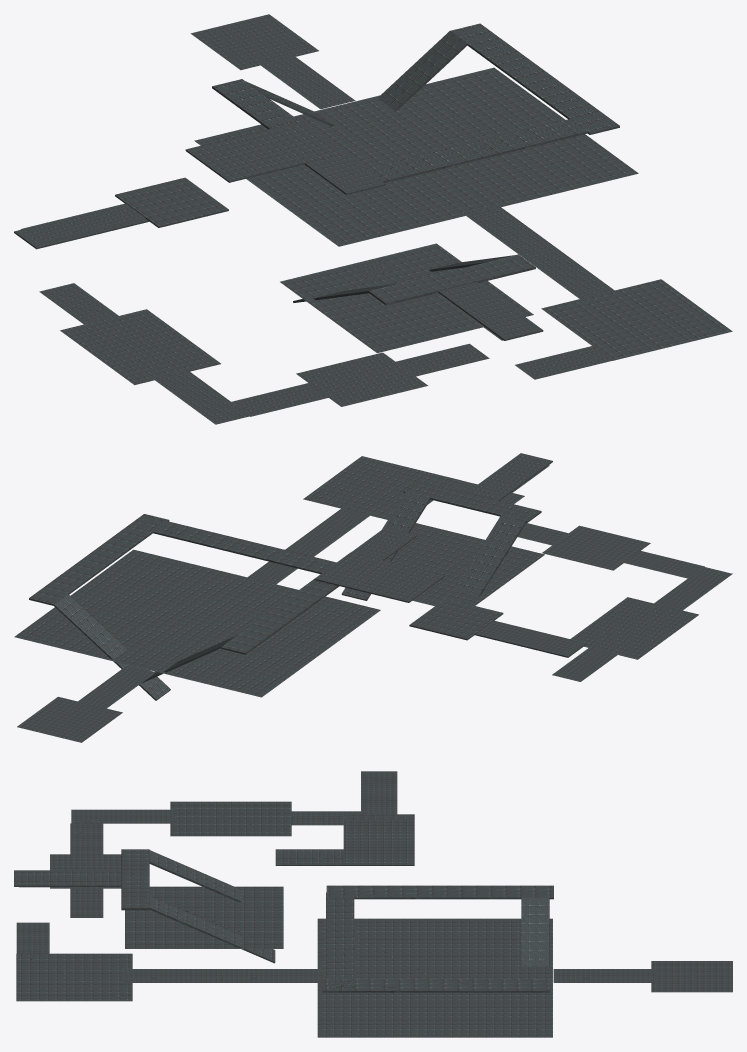
The model's file is enviornmentFinalFloors.obj.
3 views of the same model, one above another, from view 1: azimuth 30°, elevation 25°; view 2: azimuth 150°, elevation 25°; view 3: azimuth 270°, elevation 25° (orthographic). The views are drawn at different scales.
Visible parts, largest first — view 1: Plane, Plane.027, Plane.014, Plane.006, Cube.051, Cube.114, Cube.116, Plane.002, Plane.022, Cube.046, Cube.073, Cube.079 (+14 smaller); view 2: Plane, Plane.027, Plane.014, Plane.006, Cube.051, Cube.116, Cube.114, Plane.002, Plane.022, Cube.112, Cube.099, Cube.046 (+14 smaller); view 3: Plane, Plane.027, Plane.014, Plane.006, Cube.051, Cube.112, Cube.114, Plane.022, Cube.116, Cube.115, Cube.079, Cube.073 (+14 smaller).
Boxes of the visible parts, x1,y1,x2,y2 form: Plane: [194, 67, 638, 246]; Plane.027: [280, 243, 533, 352]; Plane.014: [541, 279, 732, 360]; Plane.006: [60, 309, 220, 385]; Cube.051: [185, 121, 343, 182]; Cube.114: [450, 23, 619, 134]; Cube.116: [365, 114, 594, 183]; Plane.002: [296, 352, 428, 406]; Plane.022: [190, 14, 318, 70]; Cube.046: [115, 177, 228, 227]; Cube.073: [368, 254, 535, 305]; Cube.079: [438, 282, 543, 340]; Plane: [14, 549, 380, 697]; Plane.027: [391, 523, 544, 606]; Plane.014: [303, 456, 460, 519]; Plane.006: [570, 597, 698, 659]; Cube.051: [314, 552, 444, 602]; Cube.116: [134, 516, 336, 573]; Cube.114: [29, 514, 169, 605]; Plane.002: [542, 525, 650, 570]; Plane.022: [17, 696, 122, 742]; Cube.112: [221, 579, 339, 654]; Cube.099: [454, 515, 526, 596]; Cube.046: [409, 598, 503, 640]; Plane: [317, 918, 552, 1037]; Plane.027: [125, 886, 283, 948]; Plane.014: [16, 953, 132, 1001]; Plane.006: [170, 801, 291, 836]; Cube.051: [343, 819, 414, 865]; Cube.112: [326, 885, 553, 899]; Cube.114: [322, 979, 549, 992]; Plane.022: [651, 961, 732, 992]; Cube.116: [326, 892, 354, 988]; Cube.115: [521, 897, 549, 966]; Cube.079: [14, 870, 121, 886]; Cube.073: [121, 849, 149, 910].
Bounding box in the file's own units: 169 × 30.99 × 218.
